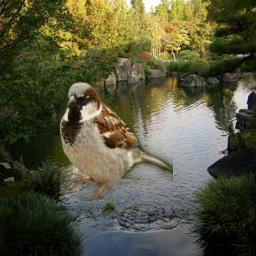Sparrow: (60, 82, 173, 201)
